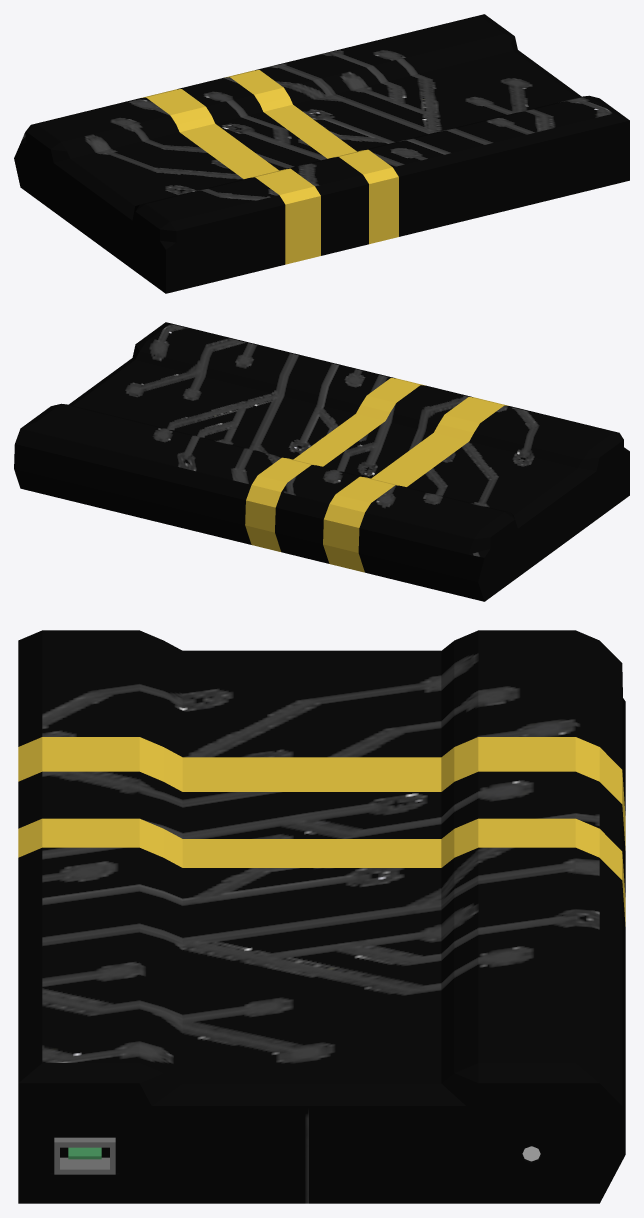
File: harddrive.fbx
3 views of the same model, one above another, from view 1: azimuth 30°, elevation 25°; view 2: azimuth 150°, elevation 25°; view 3: azimuth 270°, elevation 25° (orthographic). The views are drawn at different scales.
Visible parts, largest first — view 1: Cube.001; view 2: Cube.001; view 3: Cube.001.
Boxes of the visible parts, x1,y1,x2,y2 form: Cube.001: (14, 14, 629, 293); Cube.001: (14, 322, 629, 601); Cube.001: (18, 630, 625, 1203).
Size of the model in its own units: 62.22 by 8.28 by 34.96.
Materials: 5 (1 with a texture image).
